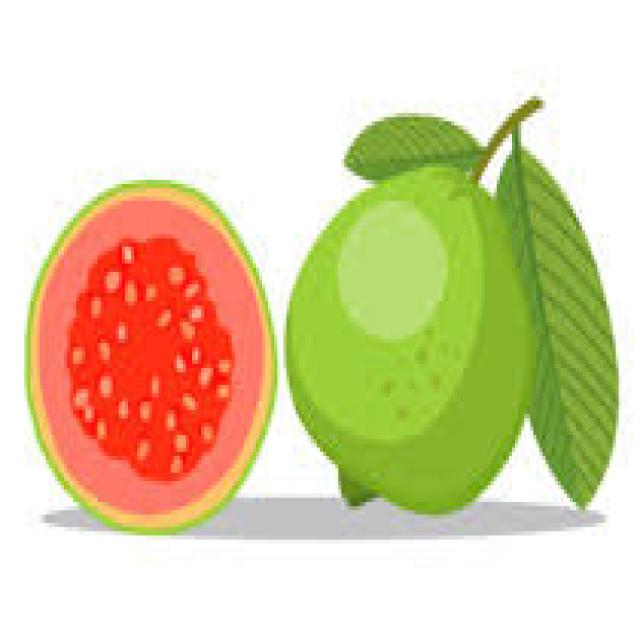Organik: (286, 88, 622, 516), (24, 168, 277, 536)
